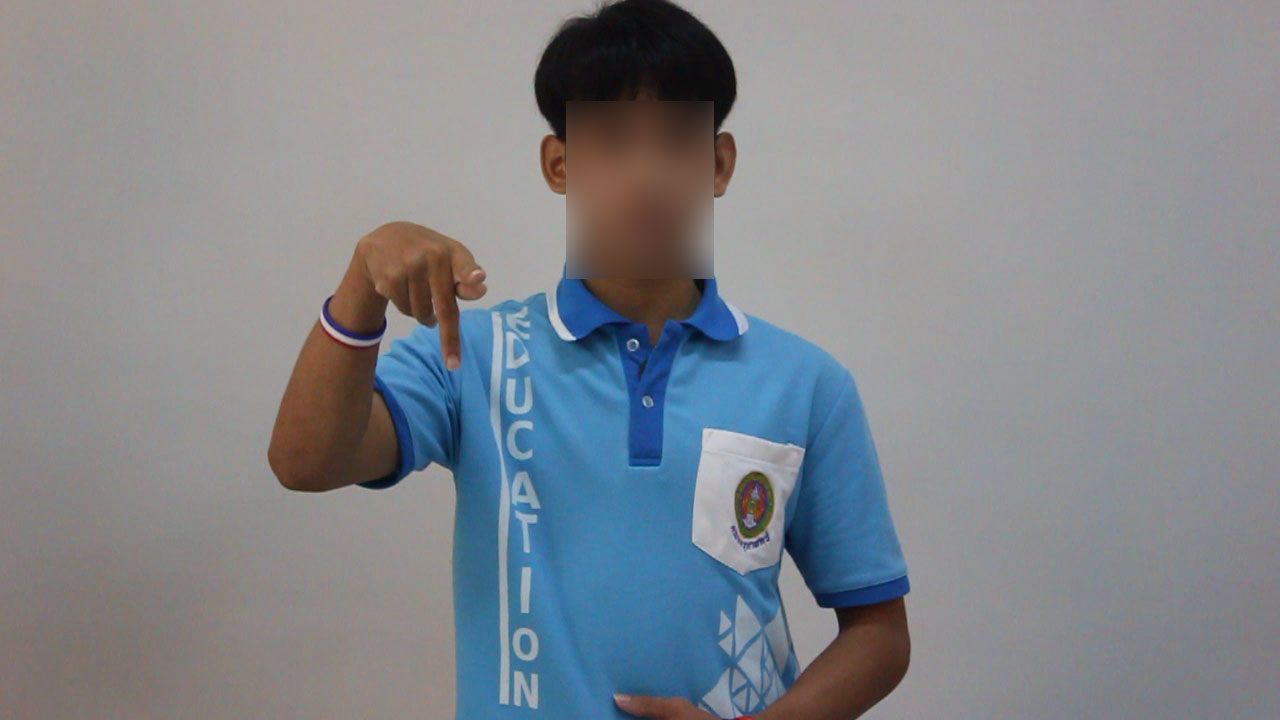por: (336, 200, 499, 374)
